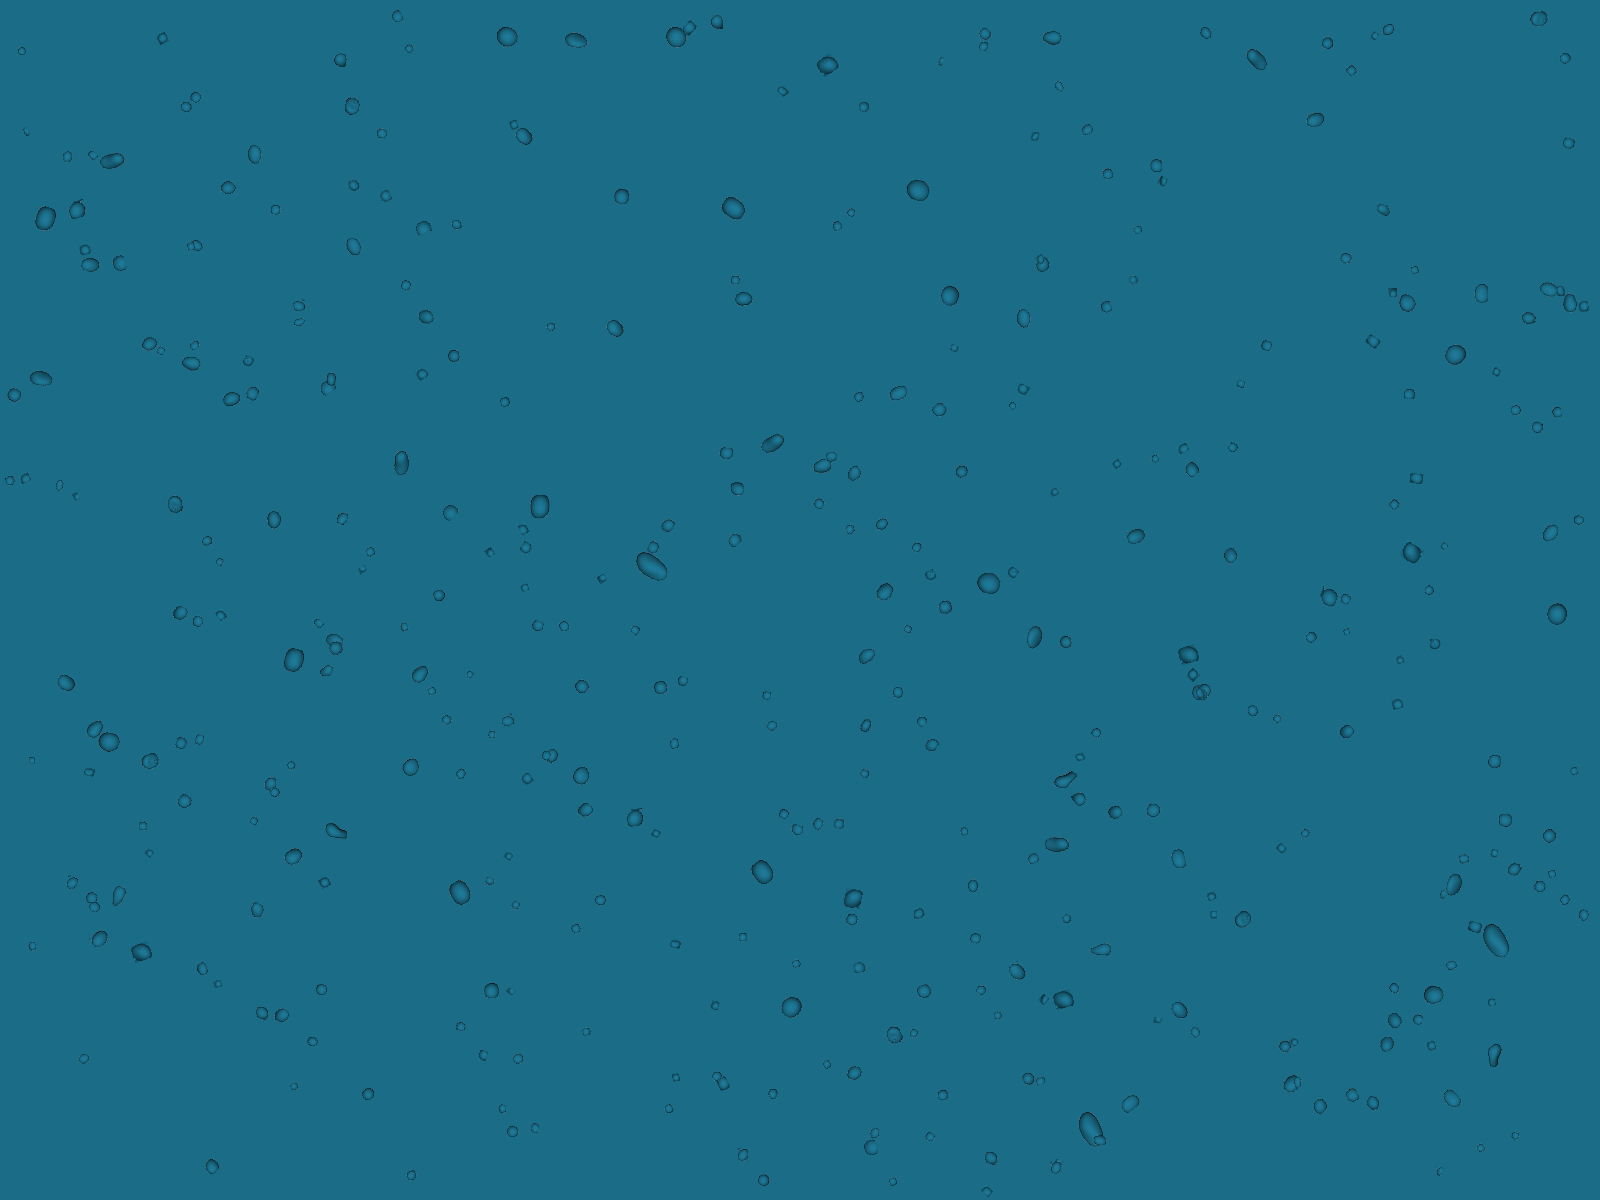drop: (1068, 1107, 1112, 1151), (1473, 919, 1518, 962), (632, 550, 670, 584), (758, 426, 791, 460), (97, 145, 131, 176), (747, 856, 779, 889), (776, 989, 808, 1022), (1238, 43, 1272, 73), (718, 193, 750, 224), (445, 877, 476, 909), (659, 21, 690, 53), (1440, 338, 1471, 369), (388, 445, 416, 478), (1042, 831, 1075, 858), (934, 280, 964, 309), (31, 204, 59, 234), (491, 23, 522, 50), (1534, 274, 1562, 303), (26, 366, 55, 393), (562, 26, 590, 55), (1051, 765, 1078, 794), (281, 645, 307, 676), (1020, 623, 1048, 650), (1419, 982, 1446, 1010), (905, 176, 932, 203), (568, 763, 595, 790), (406, 661, 433, 687), (178, 350, 205, 377), (81, 716, 108, 742), (814, 52, 842, 78), (1440, 871, 1466, 897), (398, 755, 425, 782), (1230, 908, 1256, 934), (1437, 1087, 1464, 1113), (1116, 1089, 1143, 1116), (1398, 539, 1425, 566), (241, 142, 266, 169), (1010, 306, 1036, 333), (602, 315, 627, 342), (872, 579, 897, 605), (219, 384, 244, 410), (511, 124, 537, 149), (1279, 1071, 1304, 1097), (1536, 521, 1562, 545), (1039, 26, 1066, 50), (53, 671, 79, 695), (280, 845, 306, 868), (881, 1022, 905, 1047), (87, 926, 112, 950), (129, 940, 154, 964), (94, 731, 121, 754), (436, 499, 460, 523), (314, 374, 338, 398), (217, 176, 241, 200), (1317, 585, 1340, 609), (976, 571, 1002, 594), (1558, 291, 1581, 316), (137, 751, 163, 774), (78, 253, 103, 276), (1007, 959, 1029, 984), (1051, 988, 1076, 1011), (1175, 643, 1201, 666), (529, 494, 551, 521), (66, 198, 89, 221), (107, 884, 129, 909), (1308, 1095, 1330, 1118), (842, 463, 864, 485), (571, 676, 593, 698), (842, 887, 864, 910), (1546, 601, 1567, 625), (854, 645, 878, 667), (323, 629, 346, 650), (1167, 847, 1188, 871), (1169, 998, 1191, 1022), (1485, 1042, 1506, 1068), (265, 509, 286, 532), (411, 216, 433, 237), (139, 334, 161, 355), (624, 807, 646, 828), (1538, 824, 1560, 847), (164, 492, 184, 516), (323, 822, 349, 839), (858, 1138, 879, 1160), (1397, 292, 1419, 314), (723, 528, 745, 550), (241, 382, 262, 403), (929, 400, 950, 421), (920, 734, 941, 755), (246, 900, 267, 921), (4, 384, 25, 406), (1180, 459, 1202, 480), (1220, 545, 1241, 566), (733, 287, 756, 308), (1031, 255, 1053, 275), (343, 96, 363, 118), (1527, 10, 1550, 30), (343, 237, 363, 258), (107, 255, 129, 275), (1335, 722, 1357, 742), (656, 514, 677, 536), (202, 1156, 222, 1177), (574, 800, 596, 821), (1385, 1010, 1405, 1031), (886, 383, 908, 402), (1340, 1085, 1361, 1105), (963, 876, 983, 896), (913, 982, 934, 1002), (175, 792, 195, 812), (1275, 1036, 1295, 1056), (272, 1006, 292, 1026), (1070, 789, 1090, 809), (542, 746, 562, 766), (1519, 308, 1540, 328), (813, 458, 834, 476), (1105, 803, 1125, 822), (845, 1064, 866, 1083), (651, 678, 670, 698), (1196, 679, 1214, 700), (1471, 282, 1489, 304), (1305, 111, 1327, 129), (1187, 683, 1206, 702), (503, 1123, 522, 1142), (86, 897, 105, 916), (316, 661, 335, 679), (975, 25, 994, 44), (171, 604, 190, 623), (359, 1084, 378, 1103), (1242, 701, 1261, 720), (1090, 942, 1112, 957), (612, 187, 630, 205), (483, 981, 500, 1000), (1145, 802, 1163, 821), (755, 1171, 774, 1189), (1301, 628, 1320, 645), (326, 639, 345, 657), (936, 597, 954, 616), (952, 463, 971, 480), (1192, 684, 1209, 703), (417, 308, 435, 326), (1126, 528, 1146, 545), (188, 237, 205, 255), (1364, 333, 1382, 350), (1319, 34, 1337, 52), (1556, 49, 1574, 67), (193, 961, 210, 978), (645, 539, 663, 557), (1343, 62, 1361, 79), (1386, 495, 1403, 513), (1020, 1070, 1038, 1088), (1364, 1094, 1382, 1112), (1378, 1035, 1396, 1053), (717, 446, 734, 463), (682, 19, 698, 37), (431, 587, 449, 604), (388, 8, 404, 25), (787, 822, 805, 838), (499, 712, 517, 729), (1532, 879, 1548, 896), (1528, 418, 1545, 436), (186, 89, 204, 106), (1338, 250, 1356, 266), (809, 816, 826, 832), (174, 735, 190, 753), (1560, 136, 1577, 153), (858, 717, 874, 735), (973, 981, 989, 998), (828, 218, 845, 234), (708, 1066, 724, 1084), (1386, 979, 1402, 997), (304, 1034, 321, 1050), (176, 100, 194, 116), (1506, 861, 1523, 877), (1146, 158, 1163, 174), (1198, 25, 1214, 42), (1497, 813, 1513, 829), (261, 776, 277, 793), (844, 913, 860, 929), (1089, 725, 1105, 741), (1225, 440, 1241, 456), (510, 1050, 527, 1066), (1508, 402, 1524, 418), (556, 618, 572, 634), (913, 712, 930, 729), (334, 511, 350, 527), (1078, 121, 1095, 137), (776, 805, 792, 822), (1337, 591, 1353, 608), (810, 495, 826, 512), (1187, 1024, 1203, 1040), (1443, 957, 1459, 973), (763, 717, 780, 734), (76, 1050, 92, 1066), (291, 314, 307, 330), (52, 476, 68, 493), (1290, 1074, 1306, 1090), (518, 539, 534, 556), (1269, 711, 1285, 727), (1296, 824, 1313, 841), (64, 874, 79, 891), (333, 50, 348, 68), (1099, 299, 1114, 316), (874, 516, 889, 532), (716, 1075, 731, 1092), (519, 771, 535, 787), (414, 366, 430, 382), (1487, 753, 1502, 769), (291, 297, 307, 313), (84, 891, 100, 908), (267, 785, 283, 800), (1421, 584, 1437, 599), (190, 613, 205, 629), (674, 674, 690, 689), (1026, 850, 1041, 866), (1471, 1139, 1487, 1156), (850, 389, 867, 405), (1557, 892, 1574, 908), (984, 1150, 999, 1166), (254, 1005, 270, 1021), (378, 188, 393, 204), (906, 1025, 921, 1041), (1186, 667, 1201, 683), (1381, 21, 1396, 37), (1015, 382, 1031, 397), (922, 1129, 937, 1145), (627, 621, 643, 637), (454, 1018, 469, 1034), (1100, 166, 1115, 182), (374, 126, 389, 141), (311, 616, 326, 632), (84, 147, 100, 163), (729, 482, 745, 497), (1565, 763, 1580, 778), (709, 14, 724, 29), (1058, 634, 1073, 649), (446, 348, 461, 363), (530, 619, 546, 634), (404, 1168, 420, 1184), (449, 217, 464, 232), (454, 766, 469, 782), (884, 1174, 900, 1189), (661, 1100, 677, 1116), (889, 684, 905, 700), (1456, 851, 1471, 866), (438, 712, 454, 727), (346, 178, 362, 193), (317, 875, 333, 890), (1005, 565, 1020, 580), (241, 354, 256, 369), (923, 568, 939, 584), (1466, 920, 1483, 934), (968, 932, 984, 945), (1409, 471, 1424, 485), (1390, 697, 1405, 711), (736, 1147, 750, 1162), (315, 983, 329, 998), (3, 474, 18, 488), (1259, 339, 1274, 353), (1092, 1133, 1107, 1147), (1376, 204, 1391, 218), (402, 42, 417, 55), (186, 338, 202, 352), (910, 539, 923, 555), (819, 1058, 834, 1071), (857, 766, 872, 780), (592, 894, 607, 908), (666, 737, 682, 751), (1052, 79, 1067, 93), (957, 824, 971, 839), (1146, 453, 1162, 466), (155, 32, 170, 45), (760, 689, 774, 703), (399, 279, 413, 292), (1550, 405, 1563, 418), (1410, 1012, 1424, 1026), (1576, 908, 1590, 921), (498, 395, 511, 408), (976, 39, 990, 53), (776, 84, 790, 98), (193, 734, 207, 747), (212, 555, 226, 568), (1130, 223, 1144, 237), (539, 749, 553, 763), (843, 522, 857, 536), (980, 1184, 994, 1197), (214, 608, 228, 621), (18, 471, 31, 485), (517, 522, 530, 536), (1049, 1160, 1062, 1175), (1033, 1074, 1048, 1087), (1175, 442, 1191, 455), (325, 371, 336, 387), (78, 243, 92, 256), (483, 546, 496, 558), (853, 961, 867, 973), (936, 1088, 949, 1102), (285, 759, 299, 771), (845, 205, 858, 219), (1402, 387, 1416, 400), (200, 534, 214, 547), (1572, 514, 1586, 527), (766, 1087, 779, 1100), (544, 320, 558, 333), (1409, 263, 1421, 277), (901, 623, 913, 637), (501, 850, 515, 862), (1288, 1035, 1301, 1047), (154, 344, 168, 357), (509, 899, 522, 913), (425, 684, 438, 697), (569, 921, 582, 935), (364, 545, 377, 558), (912, 908, 926, 920), (1577, 300, 1590, 313), (1206, 890, 1218, 903), (1157, 175, 1169, 188), (1037, 993, 1049, 1006), (1034, 253, 1047, 266), (270, 203, 282, 216), (825, 451, 838, 464), (858, 101, 871, 113), (1437, 539, 1450, 552), (833, 817, 845, 829), (247, 816, 260, 828), (669, 938, 682, 950), (144, 846, 156, 858), (1007, 400, 1019, 412), (1275, 842, 1288, 855), (508, 118, 520, 131), (1509, 1129, 1521, 1143), (789, 958, 803, 969), (477, 1049, 489, 1063), (1073, 751, 1086, 763), (1490, 366, 1502, 378), (1111, 458, 1123, 470), (596, 574, 609, 585), (736, 932, 748, 943), (398, 621, 409, 634), (496, 1103, 508, 1116), (26, 940, 38, 953), (464, 668, 476, 679), (83, 766, 96, 778), (185, 239, 197, 252), (869, 1127, 881, 1139), (60, 151, 73, 163), (580, 1026, 592, 1037), (729, 274, 741, 286), (1426, 1040, 1437, 1053), (949, 343, 960, 354), (709, 1000, 721, 1011), (505, 986, 517, 997), (650, 828, 661, 839), (136, 821, 147, 832), (16, 45, 28, 57), (1048, 487, 1060, 498), (1395, 654, 1406, 666), (485, 729, 496, 740), (1430, 639, 1441, 650), (1235, 379, 1247, 389), (1196, 687, 1206, 700), (1556, 285, 1566, 297), (1546, 868, 1558, 879), (21, 126, 31, 139), (519, 582, 530, 592), (1369, 30, 1380, 42), (1031, 131, 1041, 142), (357, 565, 368, 575), (1340, 626, 1352, 637), (1062, 913, 1072, 924), (993, 1008, 1003, 1020), (530, 1122, 539, 1134), (1435, 1166, 1444, 1179), (1489, 848, 1499, 858), (71, 492, 81, 502), (26, 755, 37, 765), (1053, 1158, 1065, 1167), (1439, 889, 1446, 901), (937, 55, 945, 68), (1209, 910, 1218, 920), (1388, 287, 1397, 297), (485, 877, 495, 886), (290, 1082, 299, 1092), (1128, 275, 1138, 284), (671, 1073, 680, 1082), (213, 979, 222, 988), (1487, 998, 1495, 1006), (1153, 1017, 1162, 1024)
